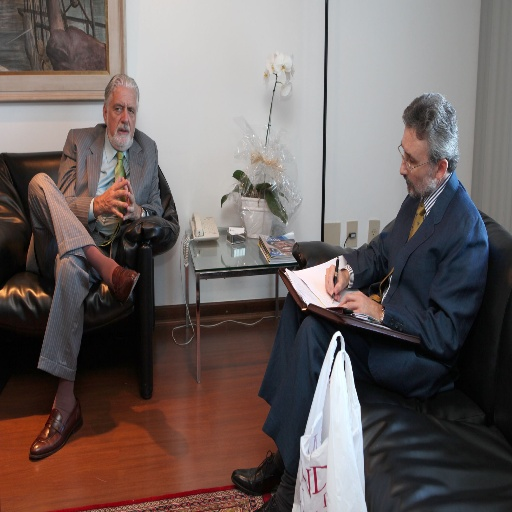hand: (342, 286, 392, 330), (104, 175, 129, 221), (324, 260, 347, 302), (121, 177, 139, 224)
